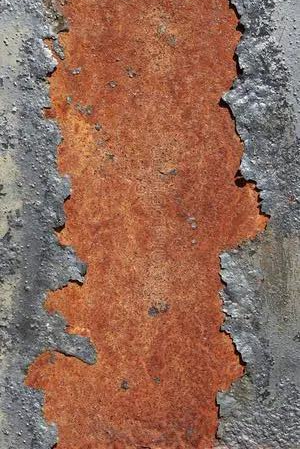Corrosion: (21, 1, 271, 449)
